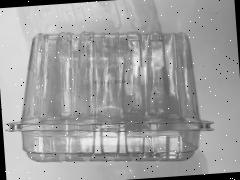plastic: (5, 12, 240, 180), (23, 19, 228, 180)
